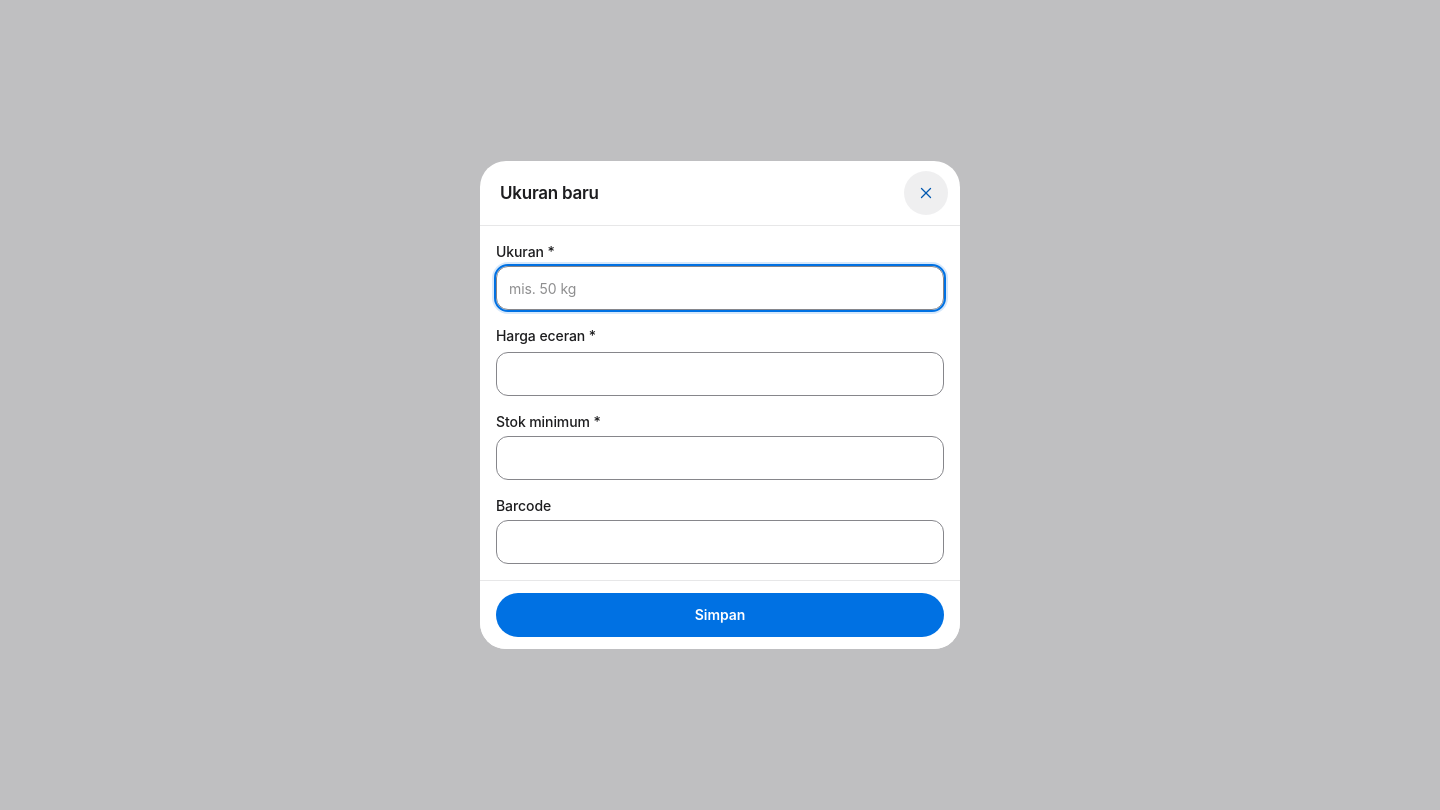
Test: UkuranSheet: number validation › asks for stok minimum when it is left empty, instead of silently turning it into 0 (no low-stock alert ever)
Type "50 kg" into the field labelled "Ukuran" at (720, 288), box [496,266,944,310]
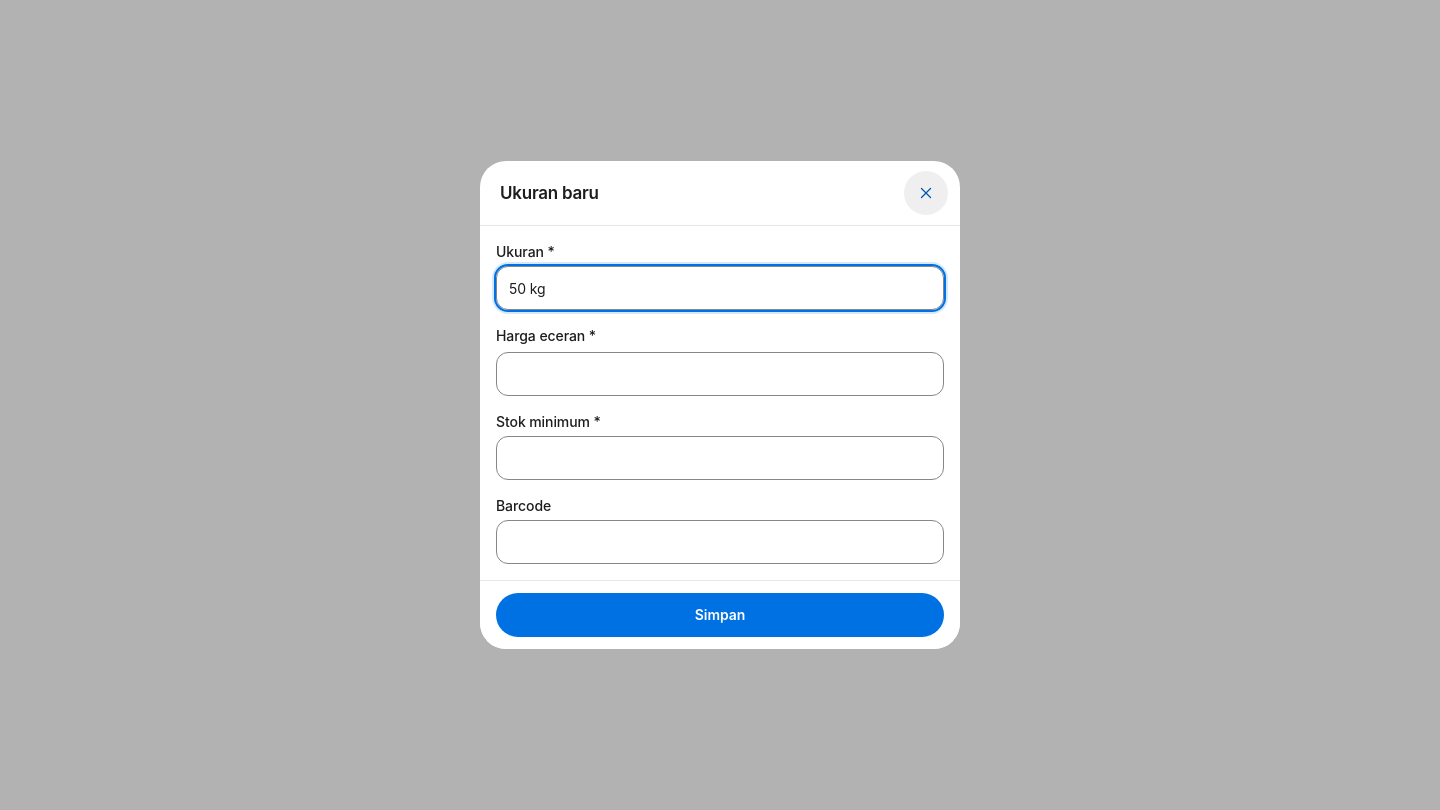
Type "65000" into the field labelled "Harga eceran" at (720, 374), box [496,352,944,396]
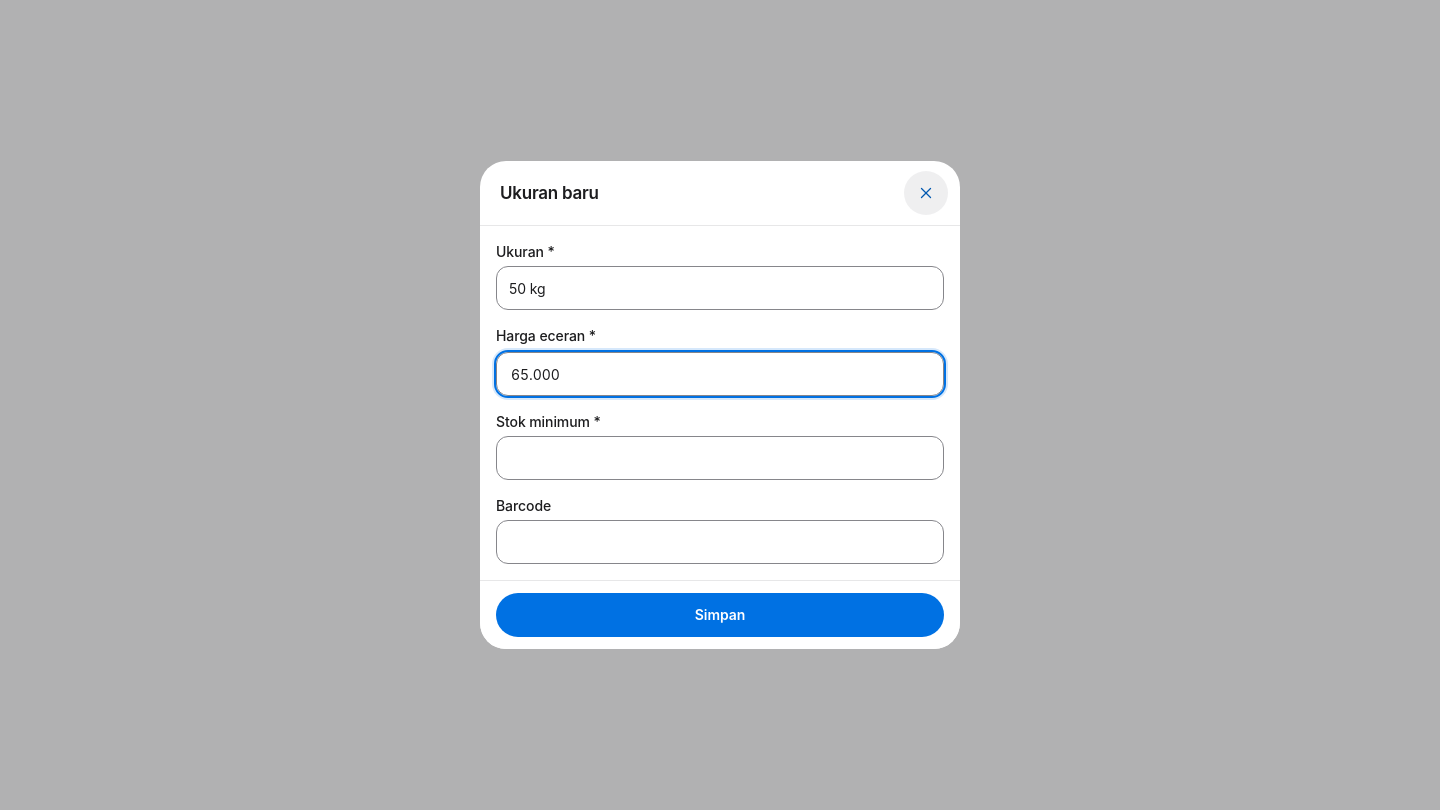
Click the button "Simpan" at (720, 615), box [496,593,944,637]
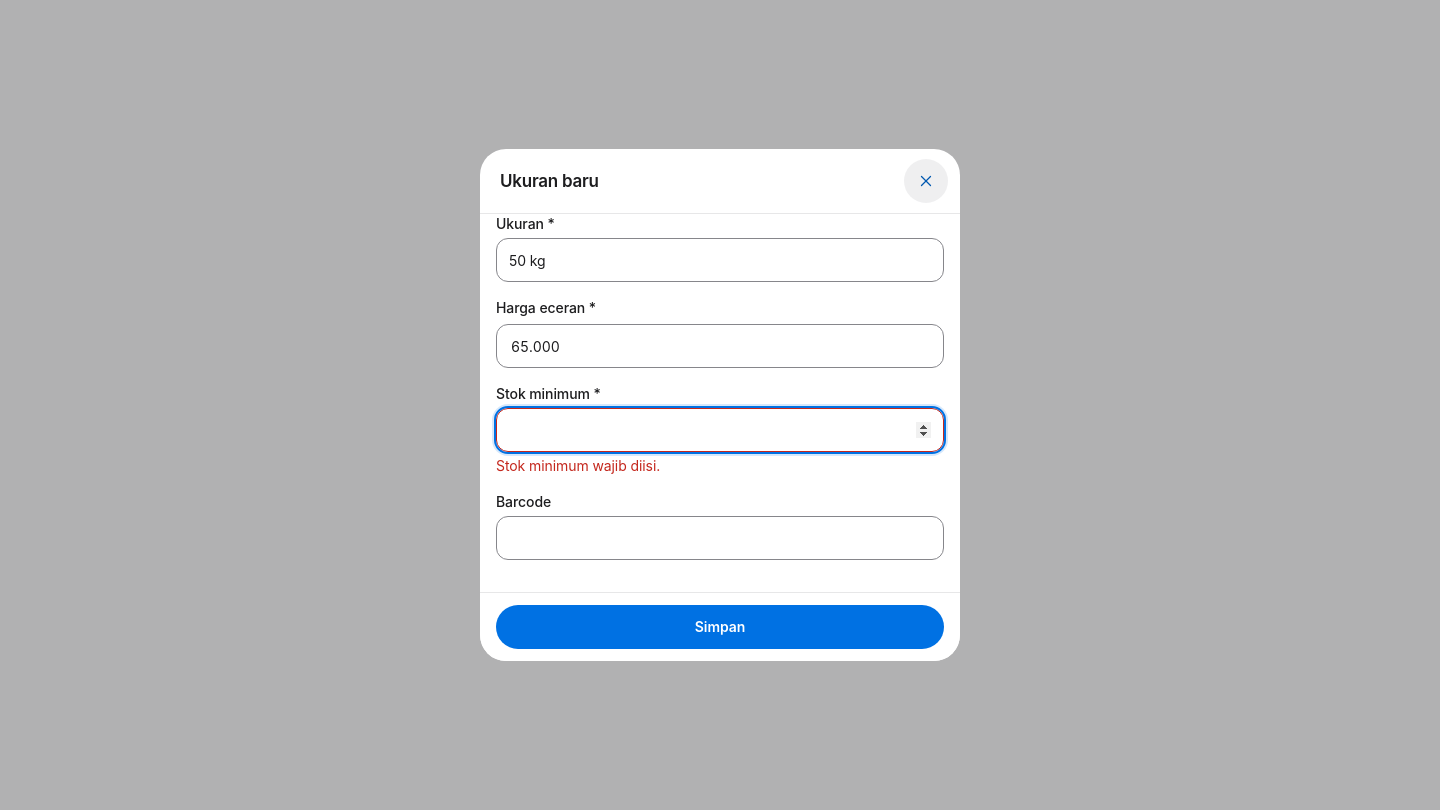
expect the text "Stok minimum wajib diisi." is shown: met, box [496,457,660,474]
